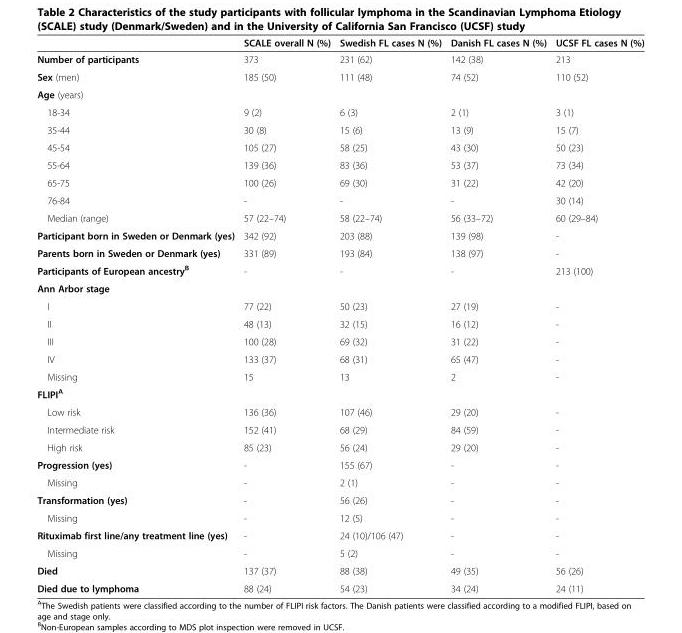table: (36, 36, 643, 593)
table column: (36, 36, 238, 593), (334, 36, 445, 593), (445, 36, 550, 593), (238, 36, 334, 593), (550, 36, 643, 593)
table column header: (36, 36, 643, 50)
table projected row header: (36, 85, 643, 103), (36, 279, 643, 297), (36, 384, 643, 402)
table row: (36, 260, 643, 279), (36, 67, 643, 85), (36, 85, 643, 103), (36, 120, 643, 138), (36, 155, 643, 173), (36, 173, 643, 191), (36, 208, 643, 226), (36, 226, 643, 244), (36, 279, 643, 297), (36, 314, 643, 332), (36, 332, 643, 350), (36, 384, 643, 402), (36, 402, 643, 420), (36, 420, 643, 438), (36, 455, 643, 473), (36, 490, 643, 508), (36, 508, 643, 526), (36, 526, 643, 544), (36, 561, 643, 579), (36, 50, 643, 67), (36, 103, 643, 120), (36, 138, 643, 155), (36, 191, 643, 208), (36, 297, 643, 314), (36, 350, 643, 367), (36, 367, 643, 384), (36, 438, 643, 455), (36, 473, 643, 490), (36, 544, 643, 561), (36, 244, 643, 260), (36, 36, 643, 50), (36, 579, 643, 593)
